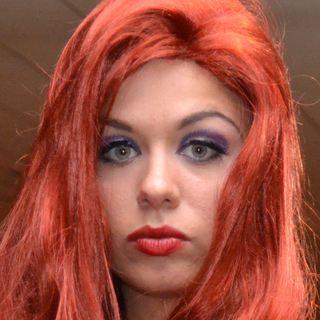eye: (165, 127, 235, 168), (92, 132, 146, 166)
